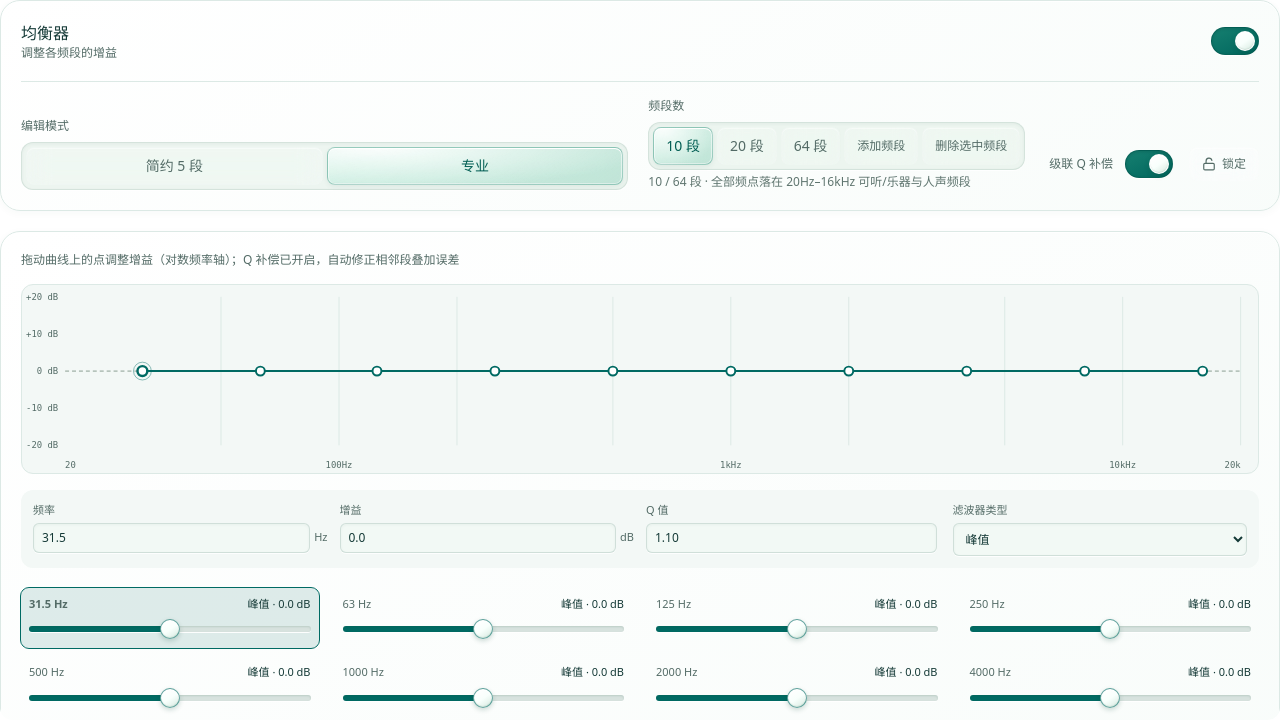
HSE 均衡器编辑 › Enter 加失焦只提交一次，增益与 Q 分别按一位和两位小数显示
Replace the text in the number field labelled "增益 dB" with "3.456": [478, 538] box x1=340 y1=522 x2=616 y2=552
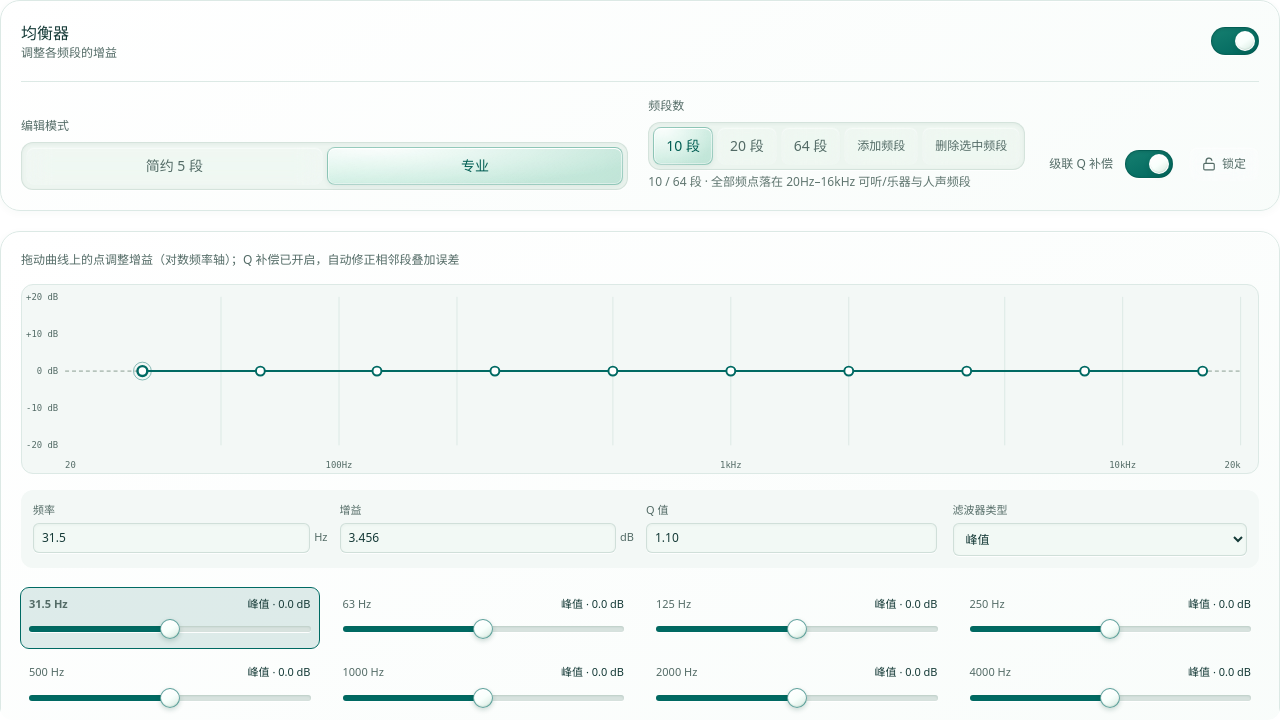
Press Enter in the number field labelled "增益 dB", box x1=340 y1=522 x2=616 y2=552
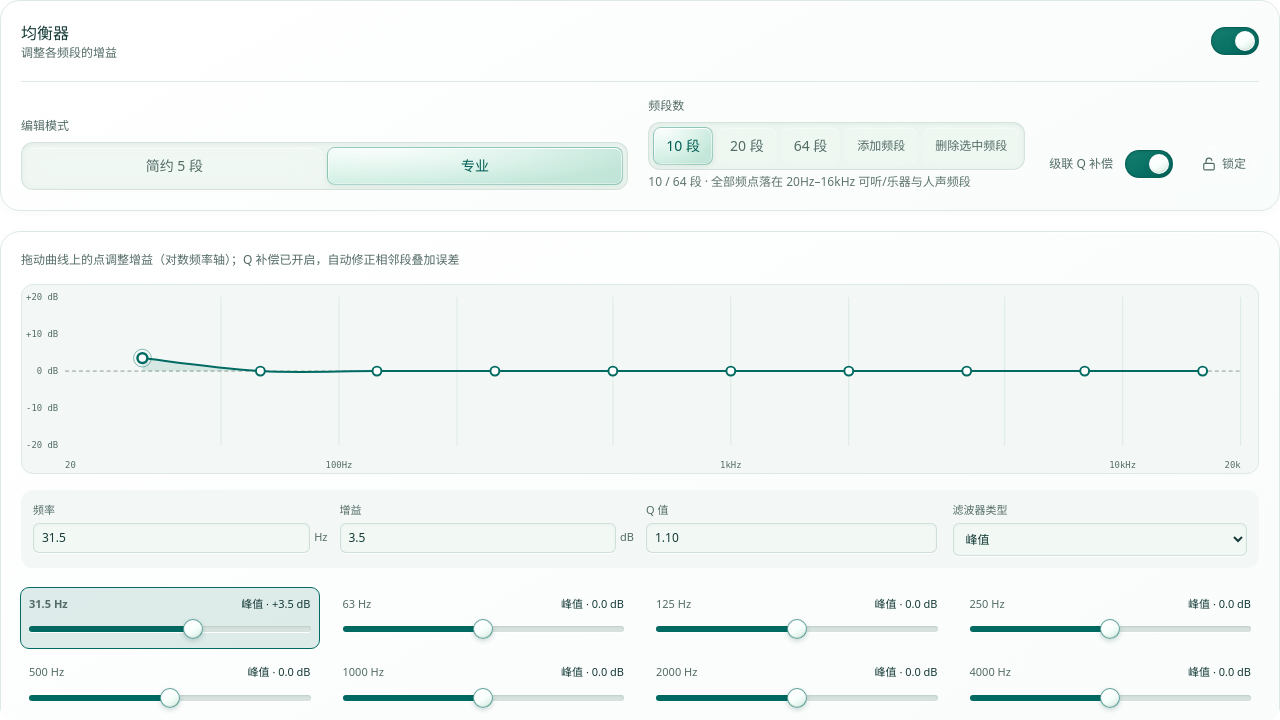
Leave the number field labelled "增益 dB", box x1=340 y1=522 x2=616 y2=552
Now the number field labelled "增益 dB" holds "3.5", box x1=340 y1=522 x2=616 y2=552
Replace the text in the number field labelled "Q 值" with "1.6789": [791, 538] box x1=646 y1=522 x2=936 y2=552
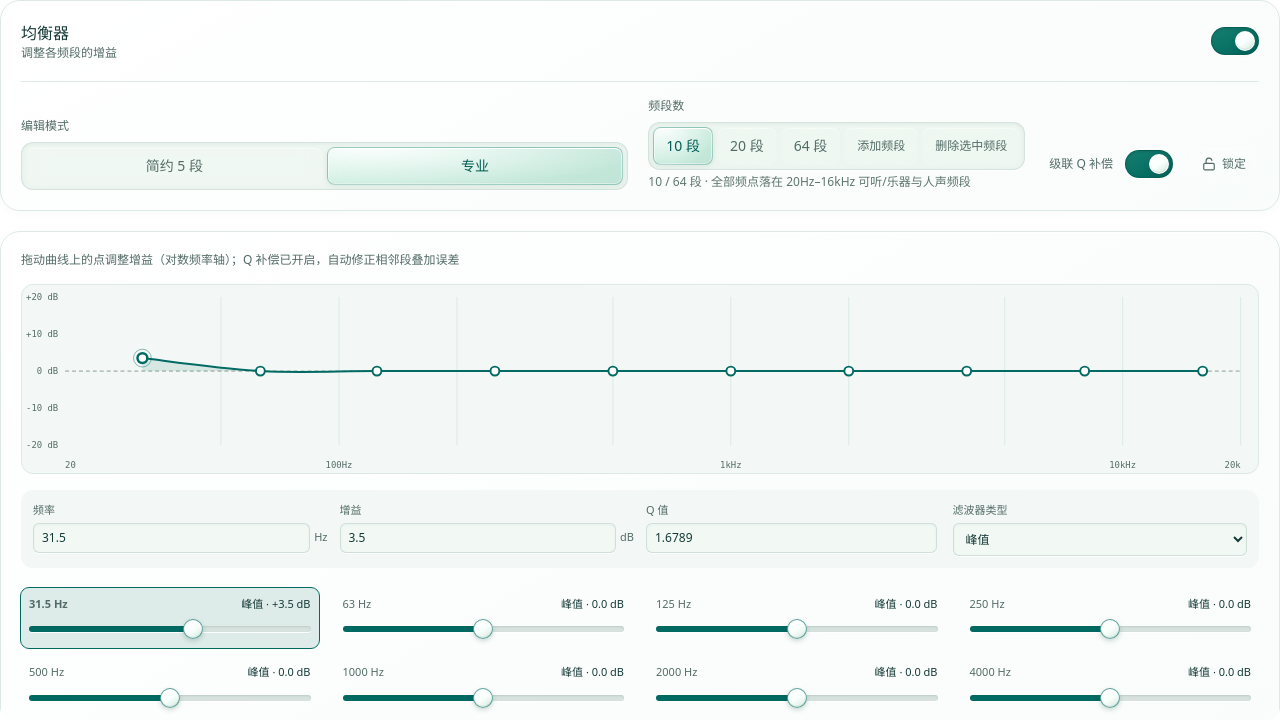
Leave the number field labelled "Q 值", box x1=646 y1=522 x2=936 y2=552
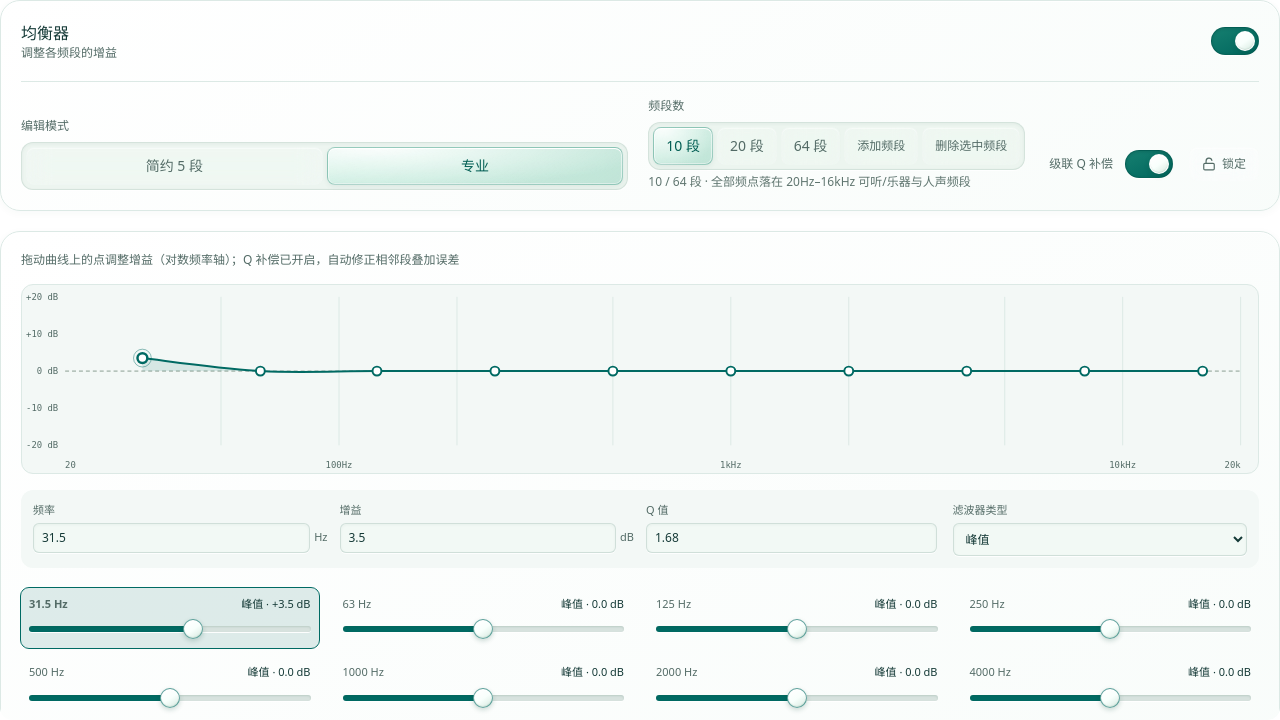
Now the number field labelled "Q 值" holds "1.68", box x1=646 y1=522 x2=936 y2=552
